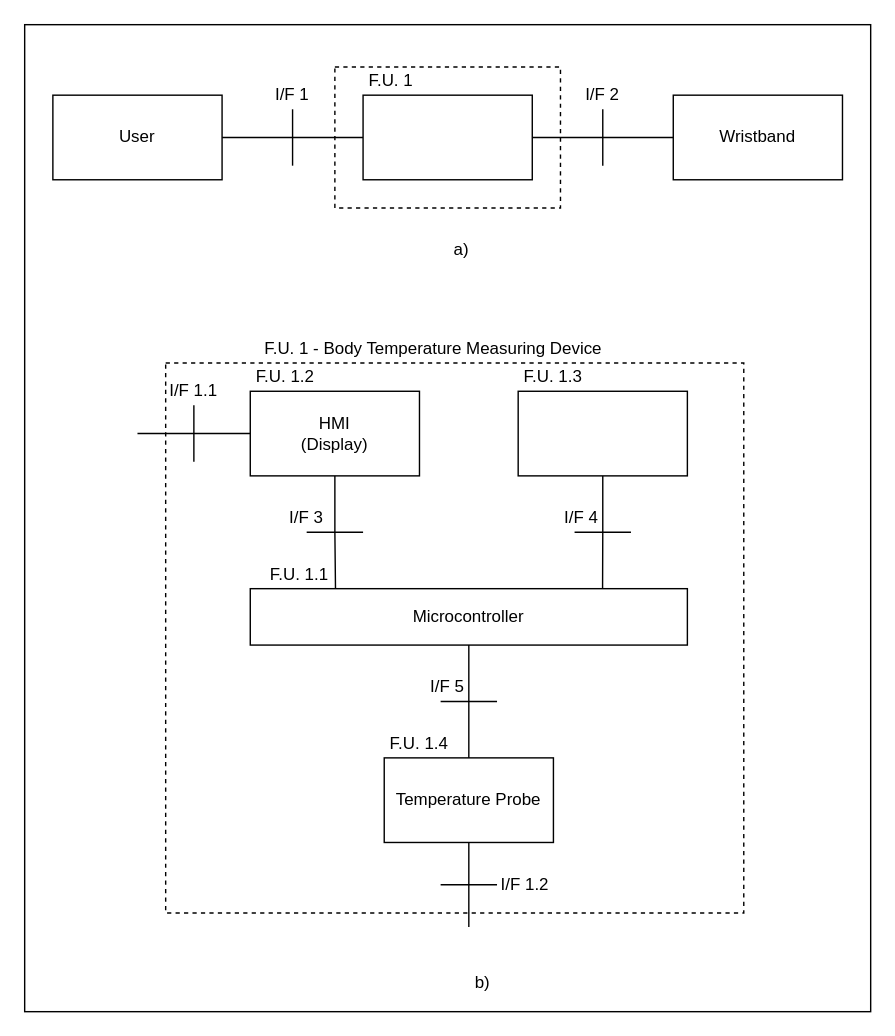
The diagram is 895 pixels wide and 1036 high, and some of its shapes have lost their labels. The shapes that lost their labels are listed below. From the top down, each one's centre as x and y in pixels, then its label:
the point at 447,137: Body Temperature Measuring Device
the point at 602,433: Power Supply (Battery)
